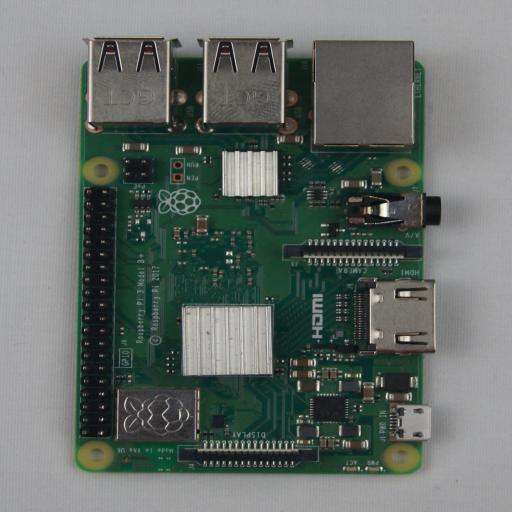Raspberry Pi 3 B-: (75, 37, 441, 474)
